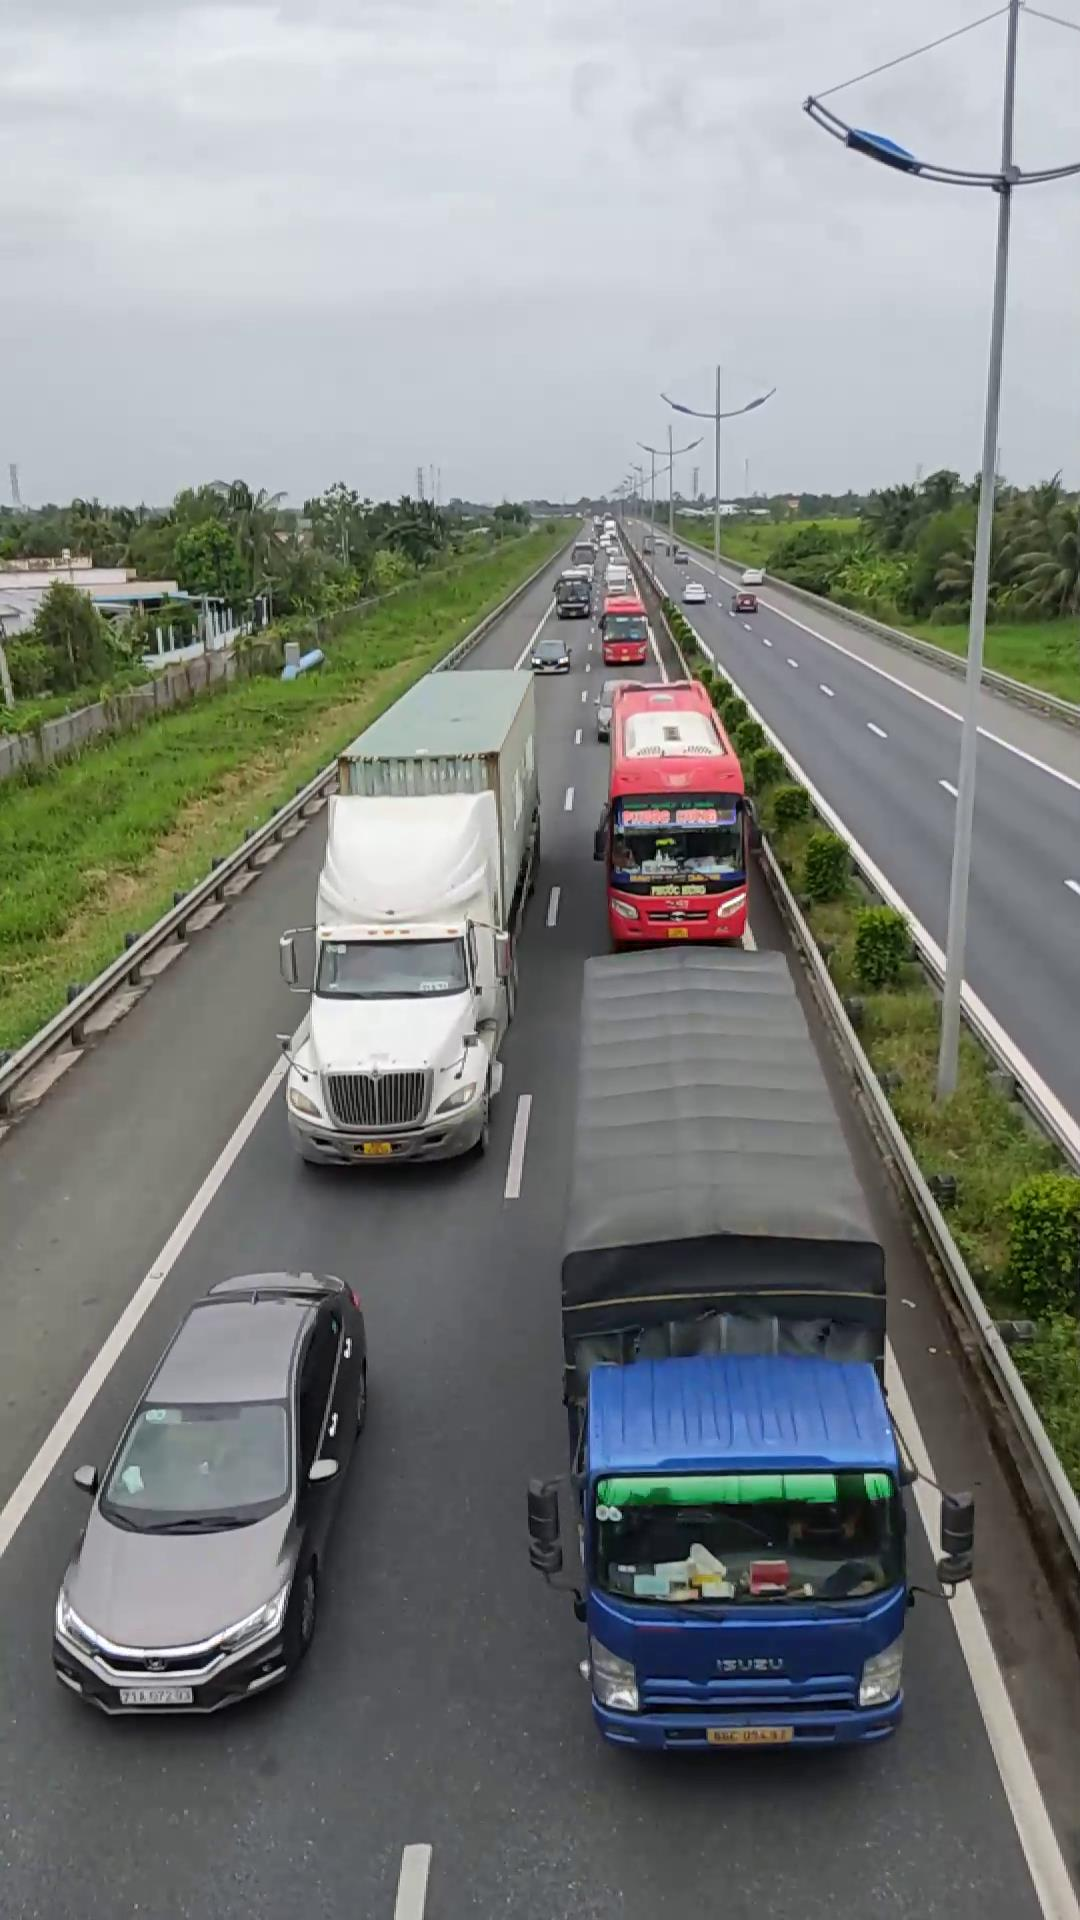bus: (595, 680, 754, 942)
car: (33, 1269, 355, 1714)
container: (284, 658, 542, 1174)
truck: (550, 953, 922, 1758)
